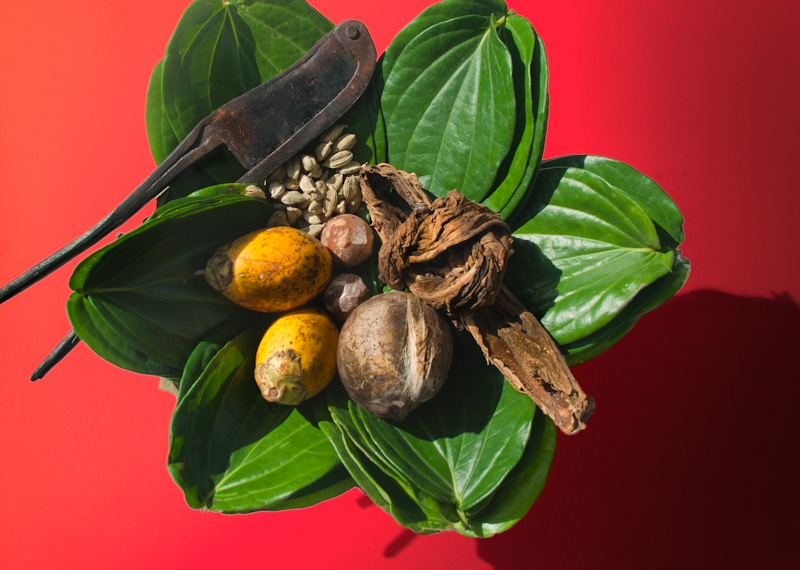bulathwita: (71, 5, 695, 544)
